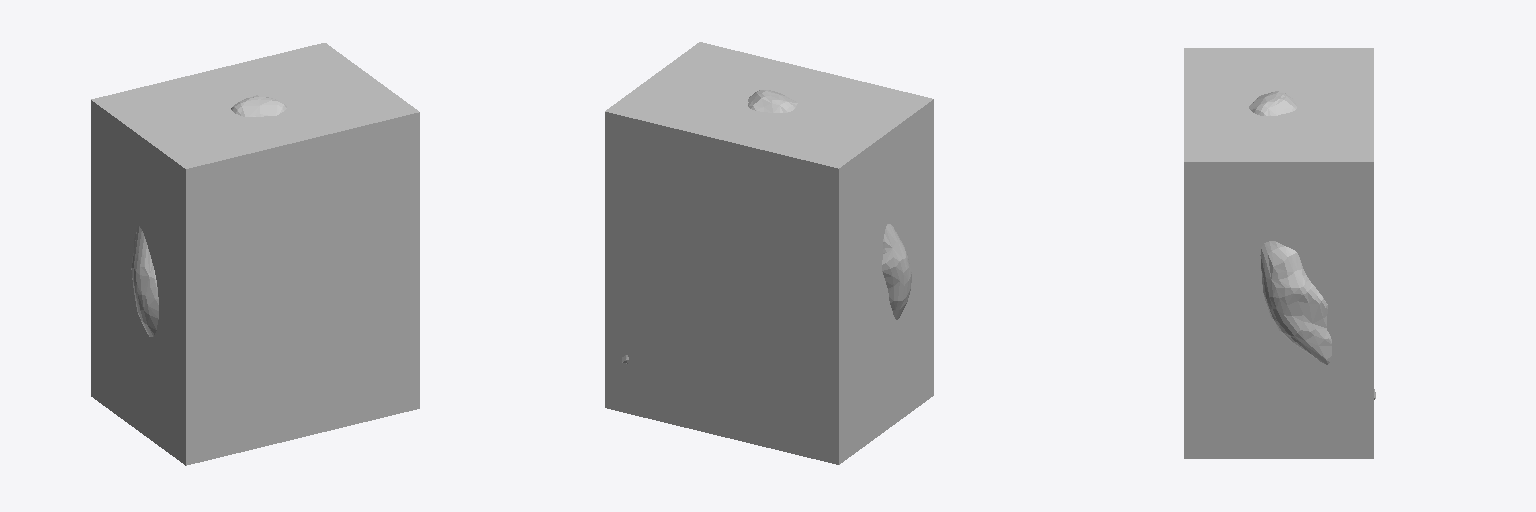
The model's file is MagmaElemental_1_000016.obj.
The picture shows the model from 3 angles: view 1: azimuth 30°, elevation 25°; view 2: azimuth 150°, elevation 25°; view 3: azimuth 270°, elevation 25°; orthographic projection.
Visible parts, largest first — view 1: Cube, Elemental_FireGolem; view 2: Cube, Elemental_FireGolem; view 3: Cube, Elemental_FireGolem.
Part boxes in pixels (x1,y1,x2,y2): Cube: (91,43,419,465); Elemental_FireGolem: (131,95,286,336); Cube: (605,42,933,464); Elemental_FireGolem: (622,90,911,363); Cube: (1184,48,1373,458); Elemental_FireGolem: (1249,91,1375,399).
Bounding box in the file's own units: 3.36 × 3.91 × 2.14.